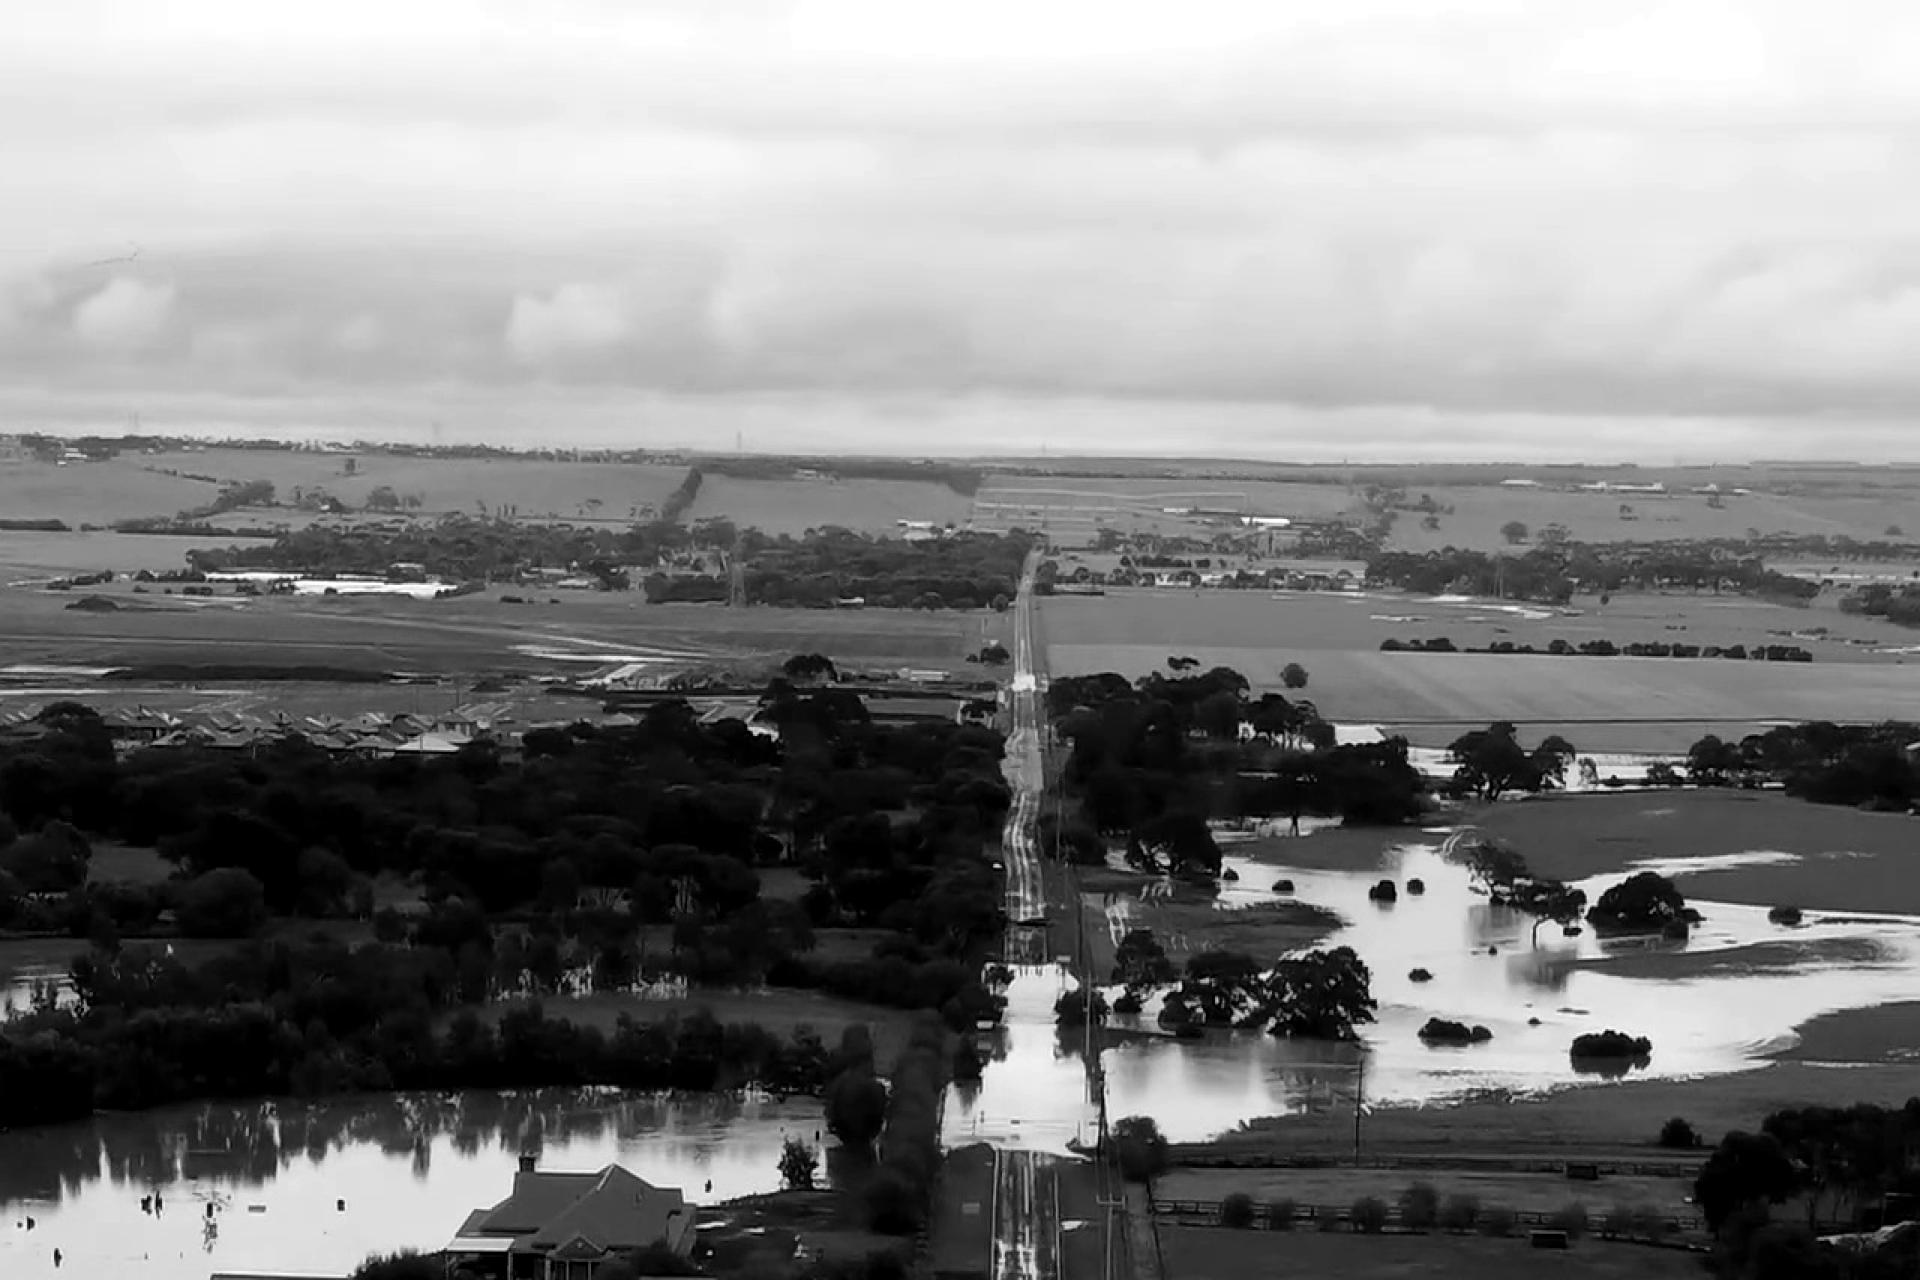House: (489, 1166, 696, 1280), (191, 1264, 570, 1280)
